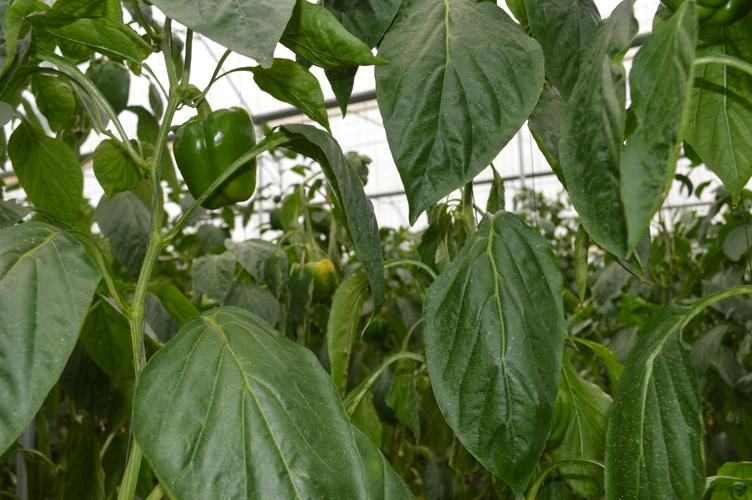BellPepper: (175, 101, 275, 217)
